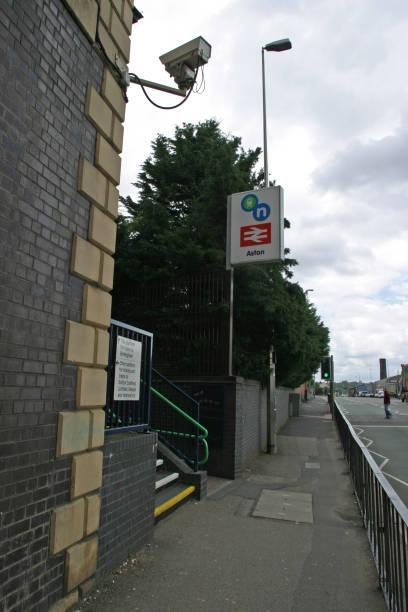camera: (137, 32, 225, 110)
